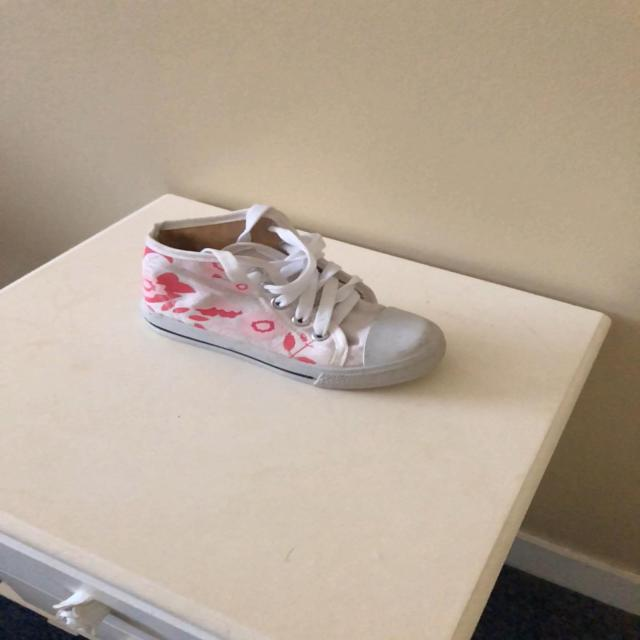shoe: (142, 207, 444, 390)
